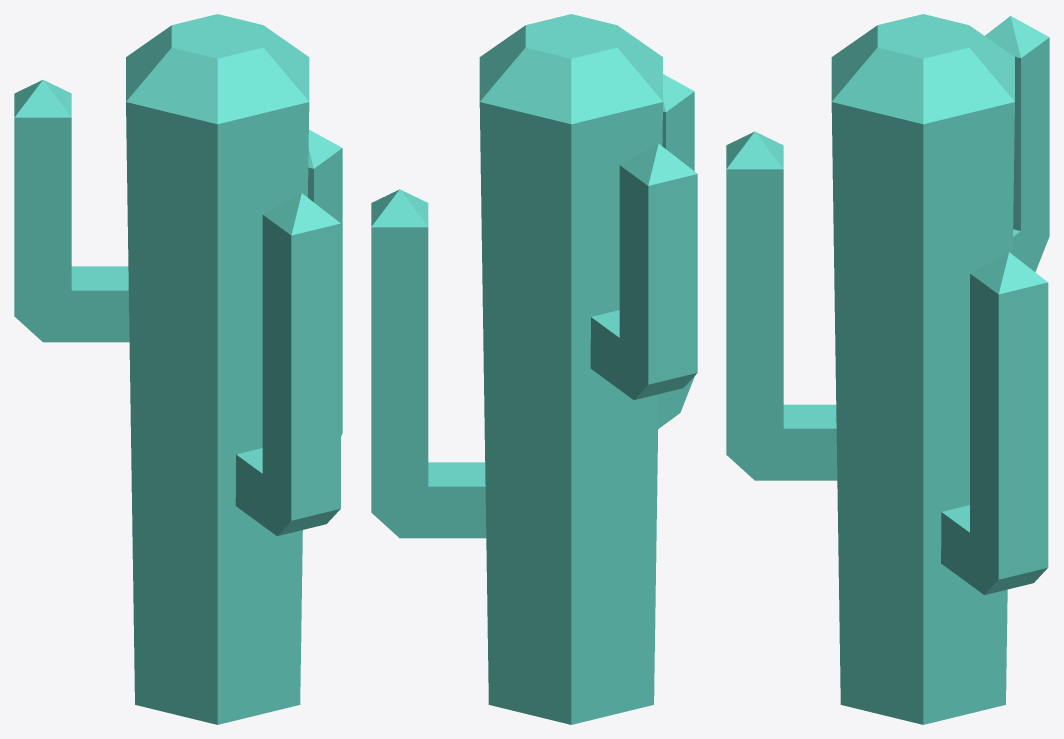
The model's file is cactus_tall.glb.
3 renders of one model, left to right at view 1: azimuth 30°, elevation 25°; view 2: azimuth 150°, elevation 25°; view 3: azimuth 270°, elevation 25°, orthographic.
Visible parts, largest first — view 1: cactus_tall; view 2: cactus_tall; view 3: cactus_tall.
Boxes of the visible parts, bbox=[...] form: cactus_tall: bbox=[14, 14, 342, 724]; cactus_tall: bbox=[371, 14, 697, 724]; cactus_tall: bbox=[726, 14, 1049, 724].
Size of the model in its own units: 0.3962 by 0.75 by 0.3391.
